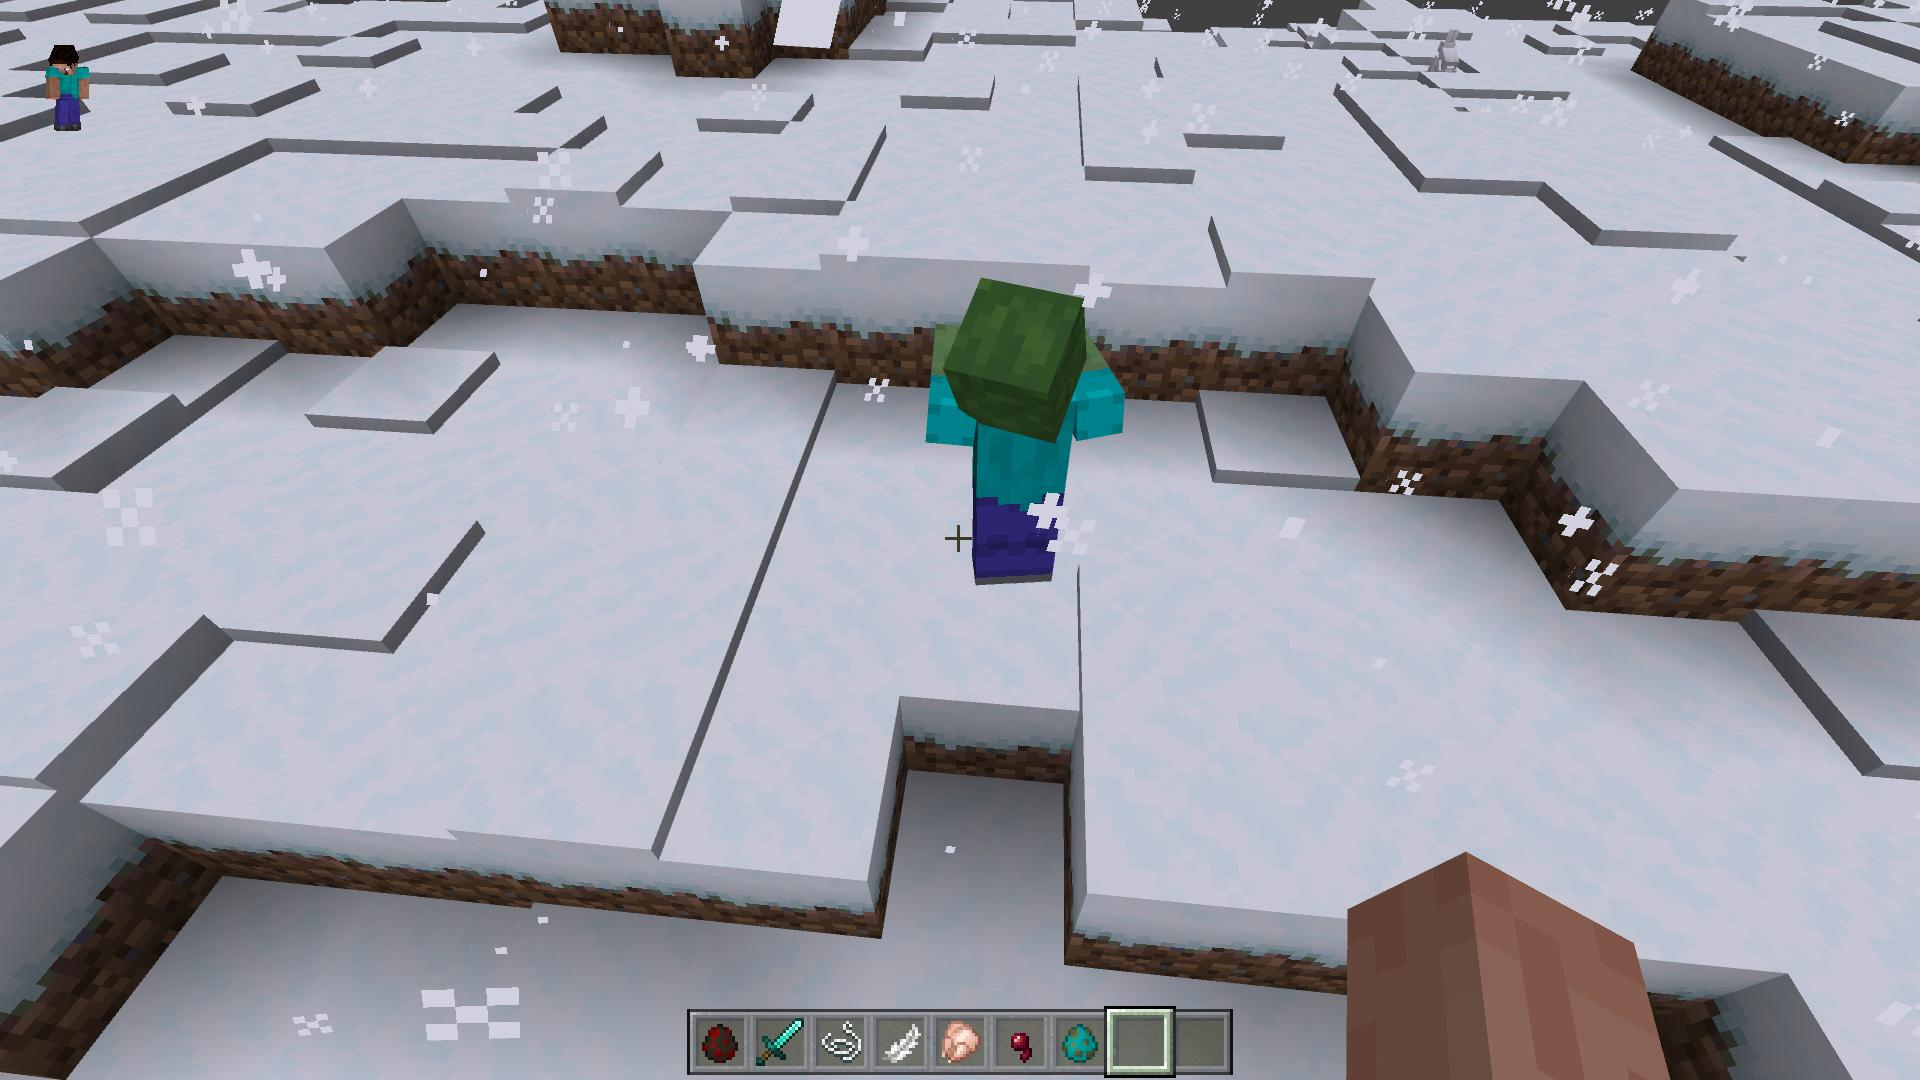zombie: (928, 277, 1130, 593)
